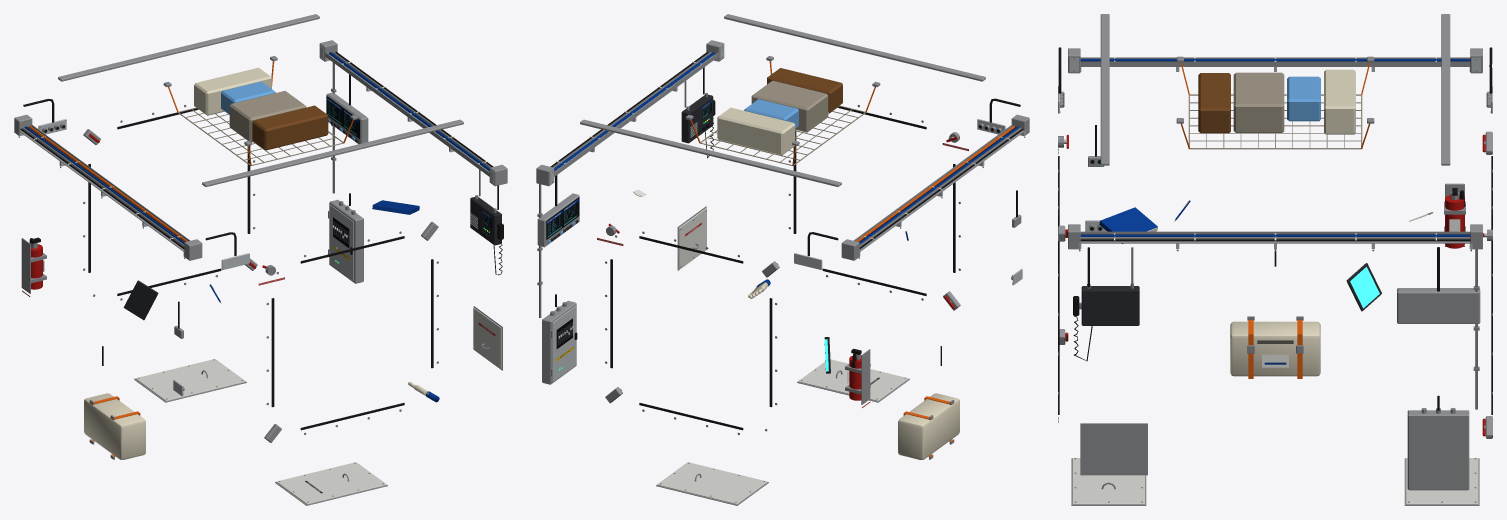
The model's file is Ambientacion_Nodo.fbx.
3 renders of one model, left to right at view 1: azimuth 30°, elevation 25°; view 2: azimuth 150°, elevation 25°; view 3: azimuth 270°, elevation 25°, orthographic. The views are drawn at different scales.
Parts seen in each view (by area): view 1: N_Det_Ambientacion, N_Bulto_2, N_Bulto_1, N_Pantalla_Sistemas, N_Flot_Tableta_2; view 2: N_Det_Ambientacion, N_Bulto_2, N_Bulto_1, N_Pantalla_Sistemas; view 3: N_Det_Ambientacion, N_Bulto_2, N_Bulto_1, N_Flot_Manual_1, N_Flot_Tableta_2.
Part boxes in pixels (bbox=[...]): N_Det_Ambientacion: bbox=[14, 14, 507, 505]; N_Bulto_2: bbox=[163, 56, 358, 165]; N_Bulto_1: bbox=[84, 393, 145, 459]; N_Pantalla_Sistemas: bbox=[22, 97, 495, 493]; N_Flot_Tableta_2: bbox=[123, 280, 158, 320]; N_Det_Ambientacion: bbox=[536, 14, 1029, 505]; N_Bulto_2: bbox=[685, 56, 880, 165]; N_Bulto_1: bbox=[898, 393, 959, 459]; N_Pantalla_Sistemas: bbox=[547, 100, 968, 407]; N_Det_Ambientacion: bbox=[1058, 14, 1492, 505]; N_Bulto_2: bbox=[1176, 56, 1374, 149]; N_Bulto_1: bbox=[1230, 316, 1320, 378]; N_Flot_Manual_1: bbox=[1099, 207, 1157, 243]; N_Flot_Tableta_2: bbox=[1346, 263, 1381, 311].
Size of the model in its own units: 2.4 by 2.4 by 2.4.
